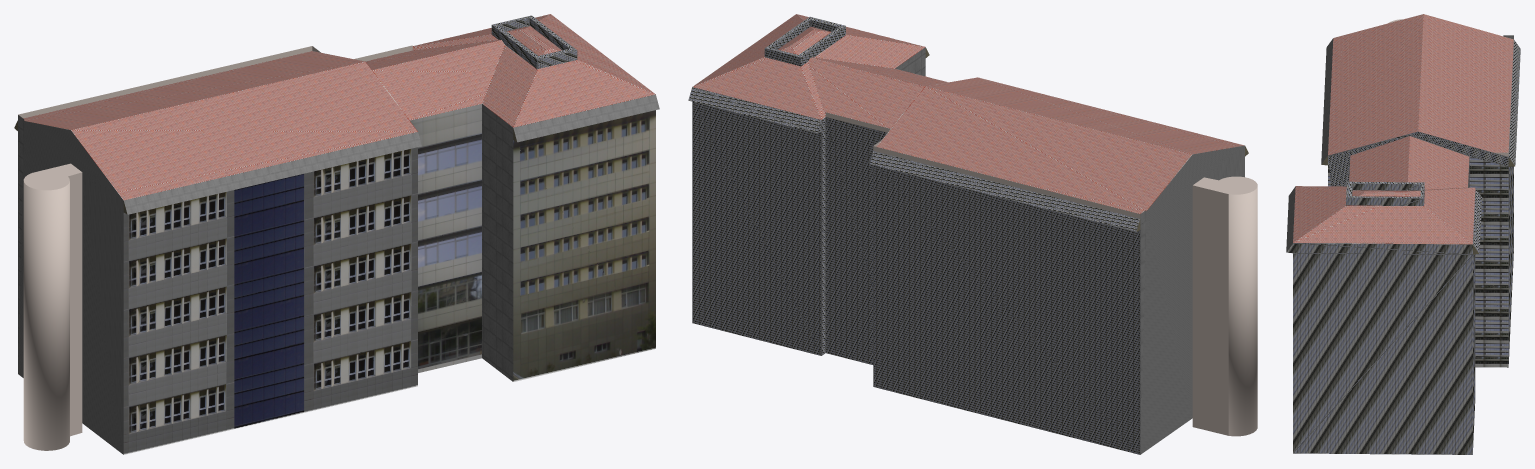
3 renders of one model, left to right at view 1: azimuth 30°, elevation 25°; view 2: azimuth 150°, elevation 25°; view 3: azimuth 270°, elevation 25°, orthographic. The views are drawn at different scales.
Visible parts, largest first — view 1: G-__555564; view 2: G-__555564; view 3: G-__555564.
Part boxes in pixels (x1,y1,x2,y2): G-__555564: (14, 14, 659, 454); G-__555564: (688, 14, 1257, 454); G-__555564: (1286, 14, 1520, 454).
Size of what is drawn, in the model's own units: 5702 by 2853 by 2477.
8 materials, 7 textured.
